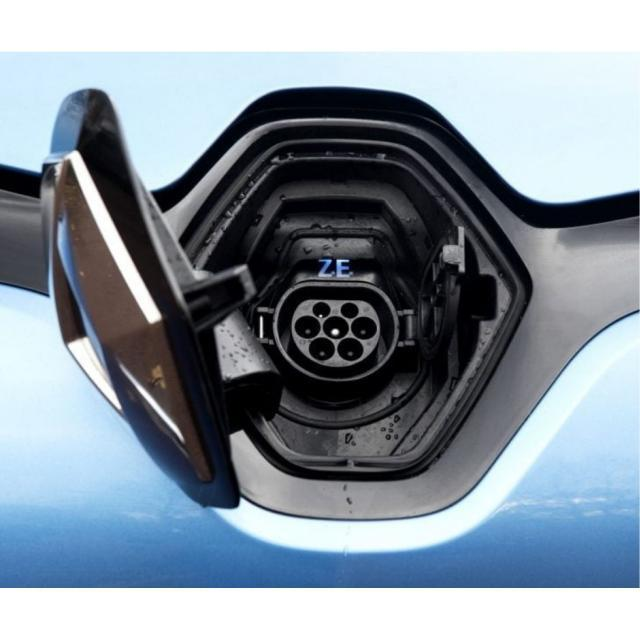Type 2: (266, 273, 410, 394)
